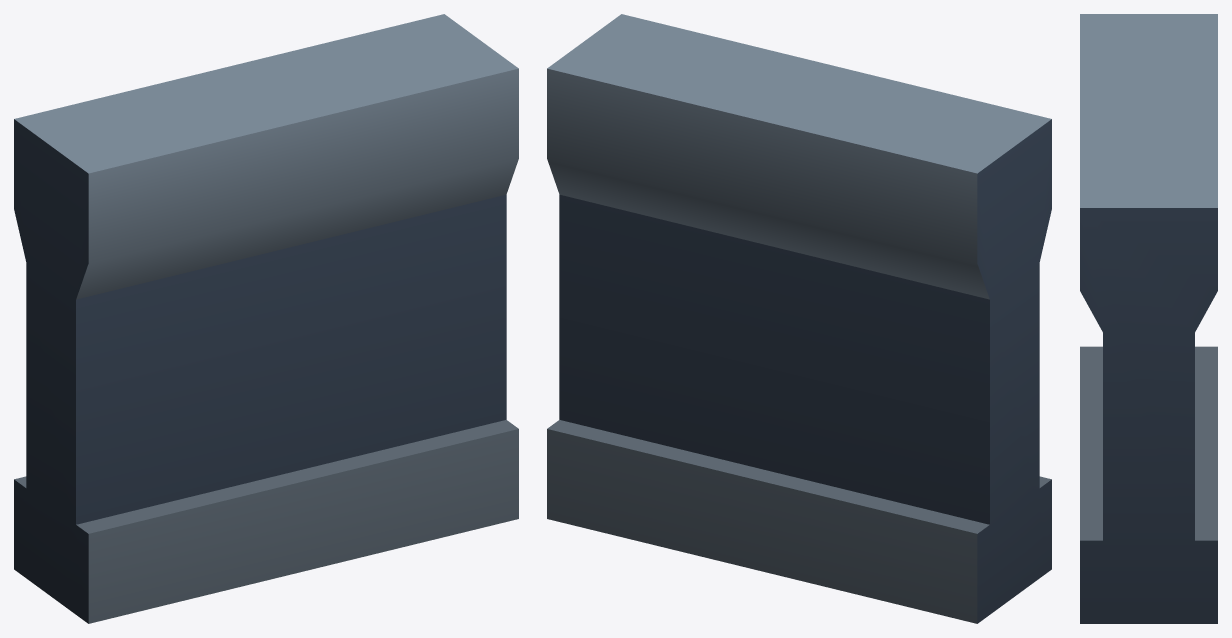
Rendered from wall.obj.
3 renders of one model, left to right at view 1: azimuth 30°, elevation 25°; view 2: azimuth 150°, elevation 25°; view 3: azimuth 270°, elevation 25°, orthographic. The views are drawn at different scales.
Visible parts, largest first — view 1: wall; view 2: wall; view 3: wall.
Part boxes in pixels (box(x1,y1,x2,y2)): wall: box(14, 14, 518, 623); wall: box(547, 14, 1051, 623); wall: box(1080, 14, 1217, 623).
Bounding box in the file's own units: 1 × 1 × 0.3.
